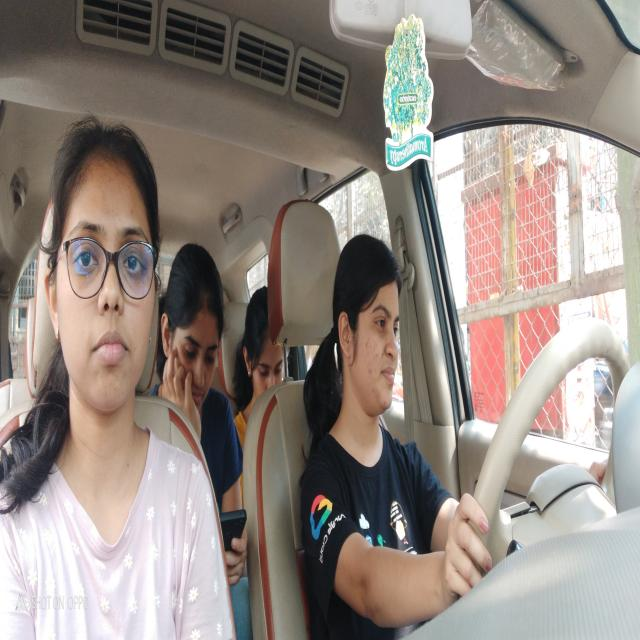person: (43, 111, 161, 404), (330, 233, 402, 427), (160, 233, 226, 403), (240, 288, 285, 392)
